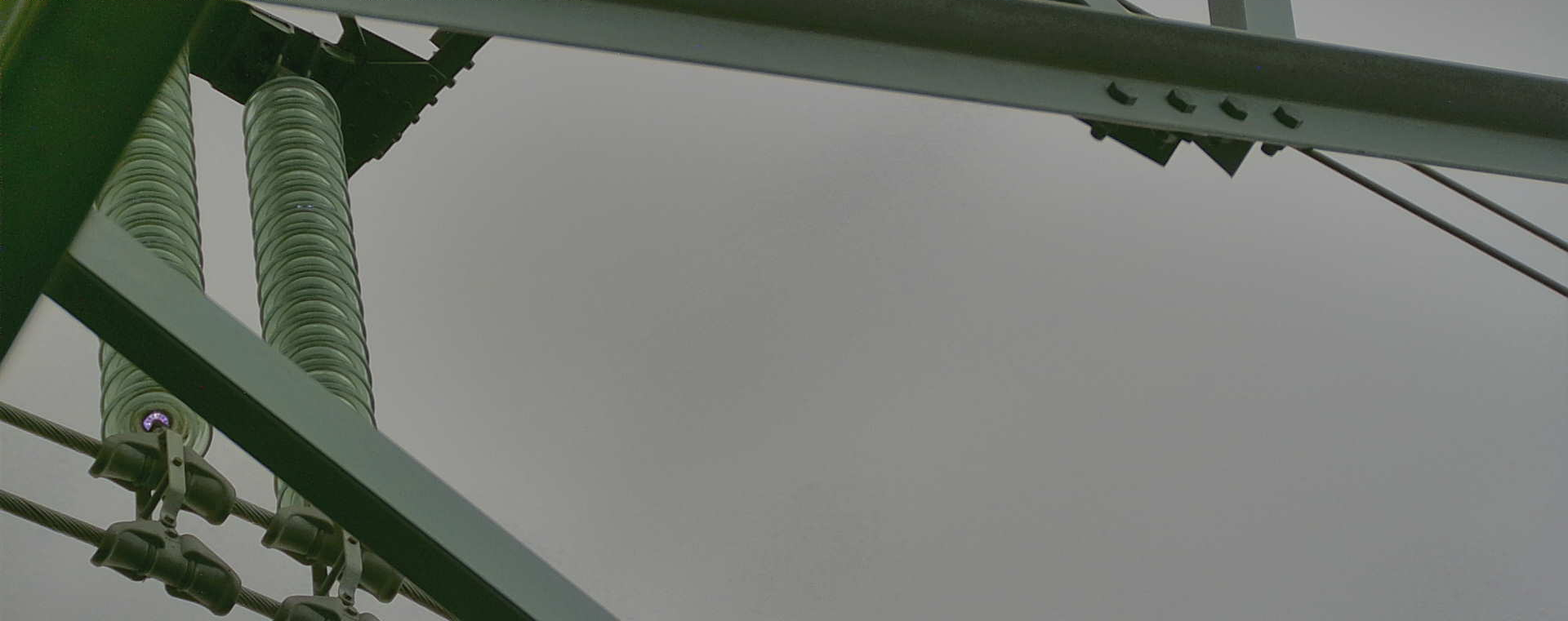绝缘子污闪: (142, 411, 171, 432)
